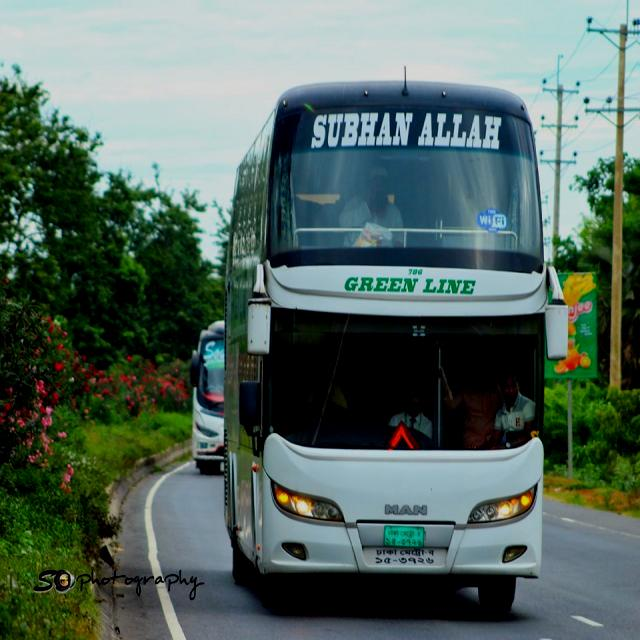bus: (226, 80, 572, 617)
